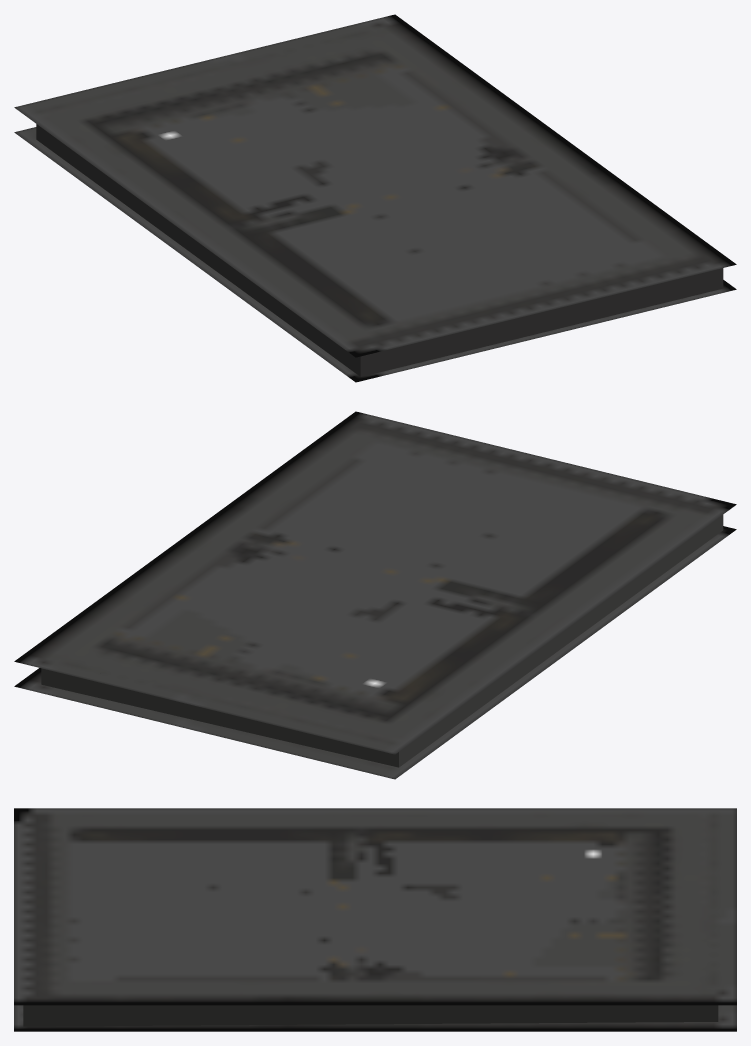
File: pz_native_fixtures_windows_01_39_frame.obj
3 views of the same model, one above another, from view 1: azimuth 30°, elevation 25°; view 2: azimuth 150°, elevation 25°; view 3: azimuth 270°, elevation 25° (orthographic). The views are drawn at different scales.
Parts seen in each view (by area): view 1: pz_native_fixtures_windows_01_39_frame; view 2: pz_native_fixtures_windows_01_39_frame; view 3: pz_native_fixtures_windows_01_39_frame.
Part boxes in pixels (x1,y1,x2,y2): pz_native_fixtures_windows_01_39_frame: (14, 14, 736, 382); pz_native_fixtures_windows_01_39_frame: (14, 411, 736, 779); pz_native_fixtures_windows_01_39_frame: (14, 808, 736, 1031).
Bounding box in the file's own units: 0.6406 × 0.04 × 0.9951.
Materials: 1 (1 with a texture image).
